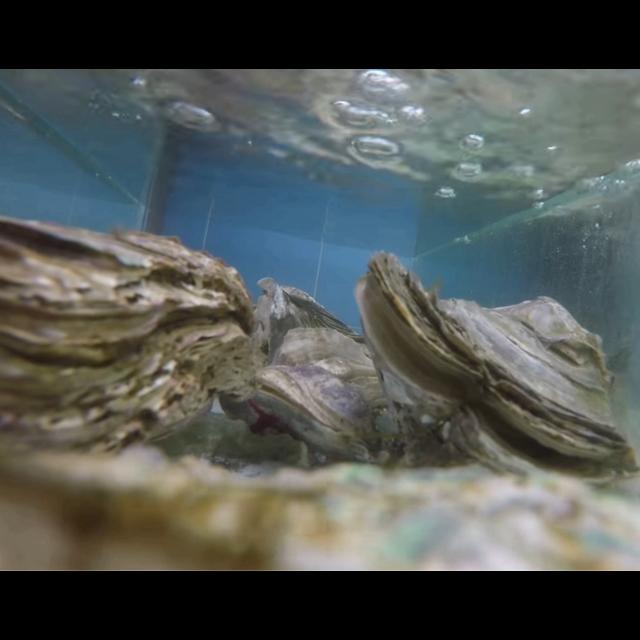Oyster-Closed: (0, 215, 256, 479), (252, 329, 408, 467)
Oyster-Indeterminate: (0, 445, 640, 571), (254, 278, 370, 369)
Oyster-Open: (355, 250, 640, 492)
